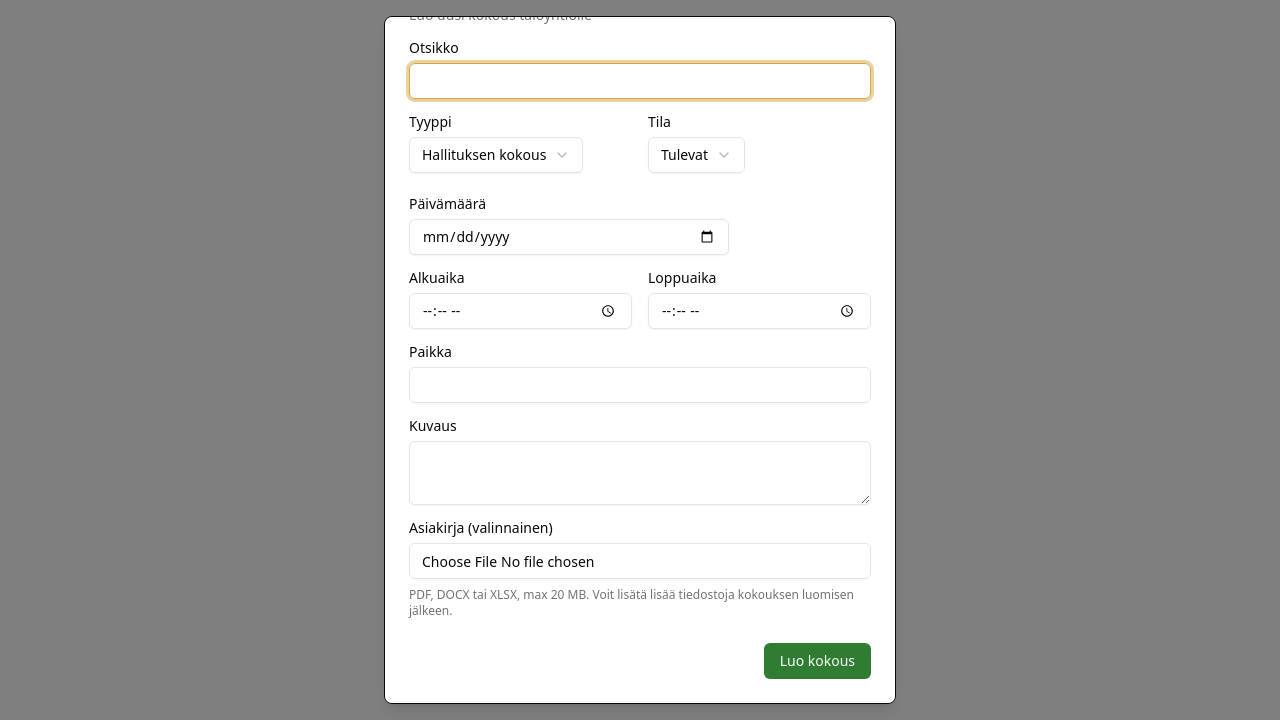
Test: MeetingFormDialog › shows validation errors when submitting empty form
(page scrolled)
What coordinates should you click on to do the following:
click the button "Luo kokous"
I would click on:
 (817, 661)
Its box is [764,643,871,679].
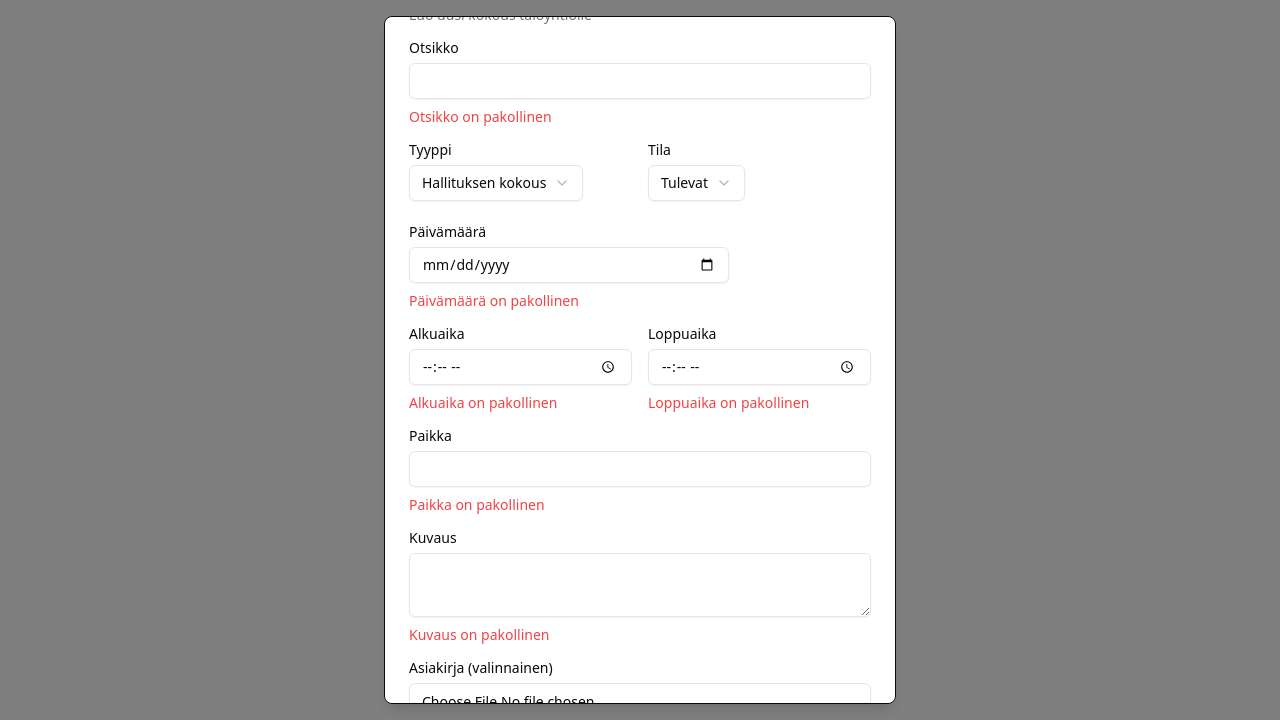
Result: the text "Otsikko on pakollinen" is shown at [409,107,552,126]
Result: the text "Päivämäärä on pakollinen" is shown at [409,291,579,310]
Result: the text "Alkuaika on pakollinen" is shown at [409,393,557,412]
